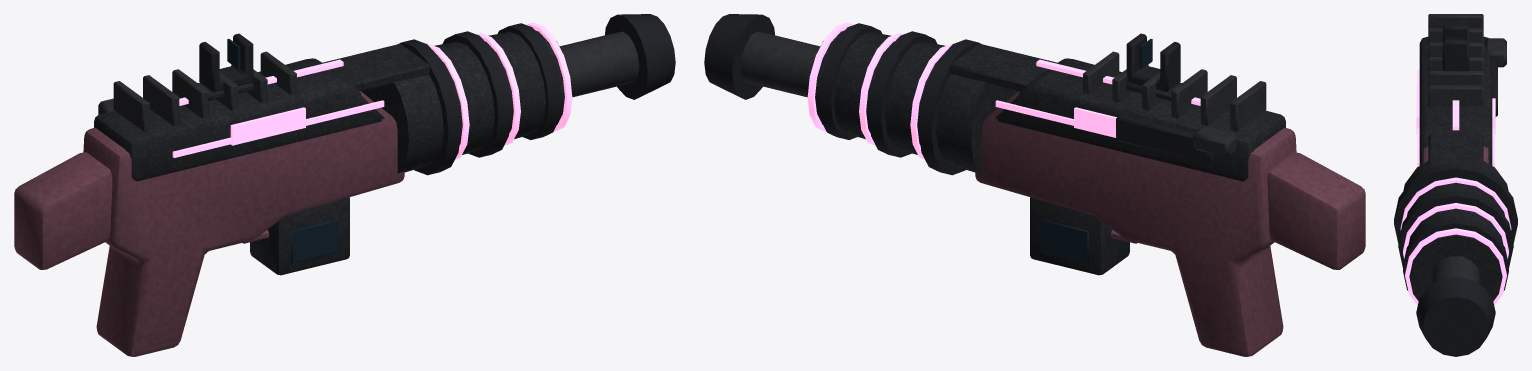
File: blaster_r5.fbx
3 renders of one model, left to right at view 1: azimuth 30°, elevation 25°; view 2: azimuth 150°, elevation 25°; view 3: azimuth 270°, elevation 25°, orthographic. The views are drawn at different scales.
Parts seen in each view (by area): view 1: Body, Glow, Magazine; view 2: Body, Magazine, Glow, Bolt; view 3: Body, Glow, Bolt.
Boxes of the visible parts, bbox=[...] form: Body: bbox=[14, 14, 675, 356]; Glow: bbox=[172, 22, 572, 159]; Magazine: bbox=[250, 197, 349, 275]; Body: bbox=[704, 14, 1365, 356]; Magazine: bbox=[1030, 197, 1129, 275]; Glow: bbox=[807, 22, 1200, 159]; Bolt: bbox=[1116, 115, 1237, 162]; Body: bbox=[1394, 14, 1517, 356]; Glow: bbox=[1400, 70, 1511, 305]; Bolt: bbox=[1485, 38, 1506, 116].
Bounding box in the file's own units: 6 × 2.52 × 1.12.
Materials: 2 (1 with a texture image).
